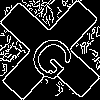G: (25, 25, 85, 85)
